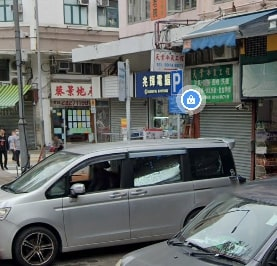Parking: (165, 71, 188, 117)
